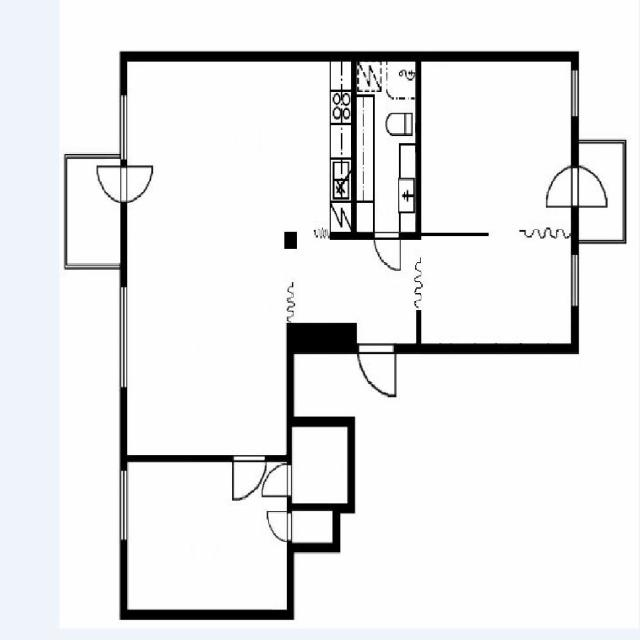door: (360, 343, 396, 401), (233, 455, 266, 505), (542, 168, 579, 206), (572, 168, 608, 206), (120, 166, 155, 202), (94, 166, 128, 202), (375, 232, 400, 272), (263, 464, 292, 496), (265, 511, 292, 540)
